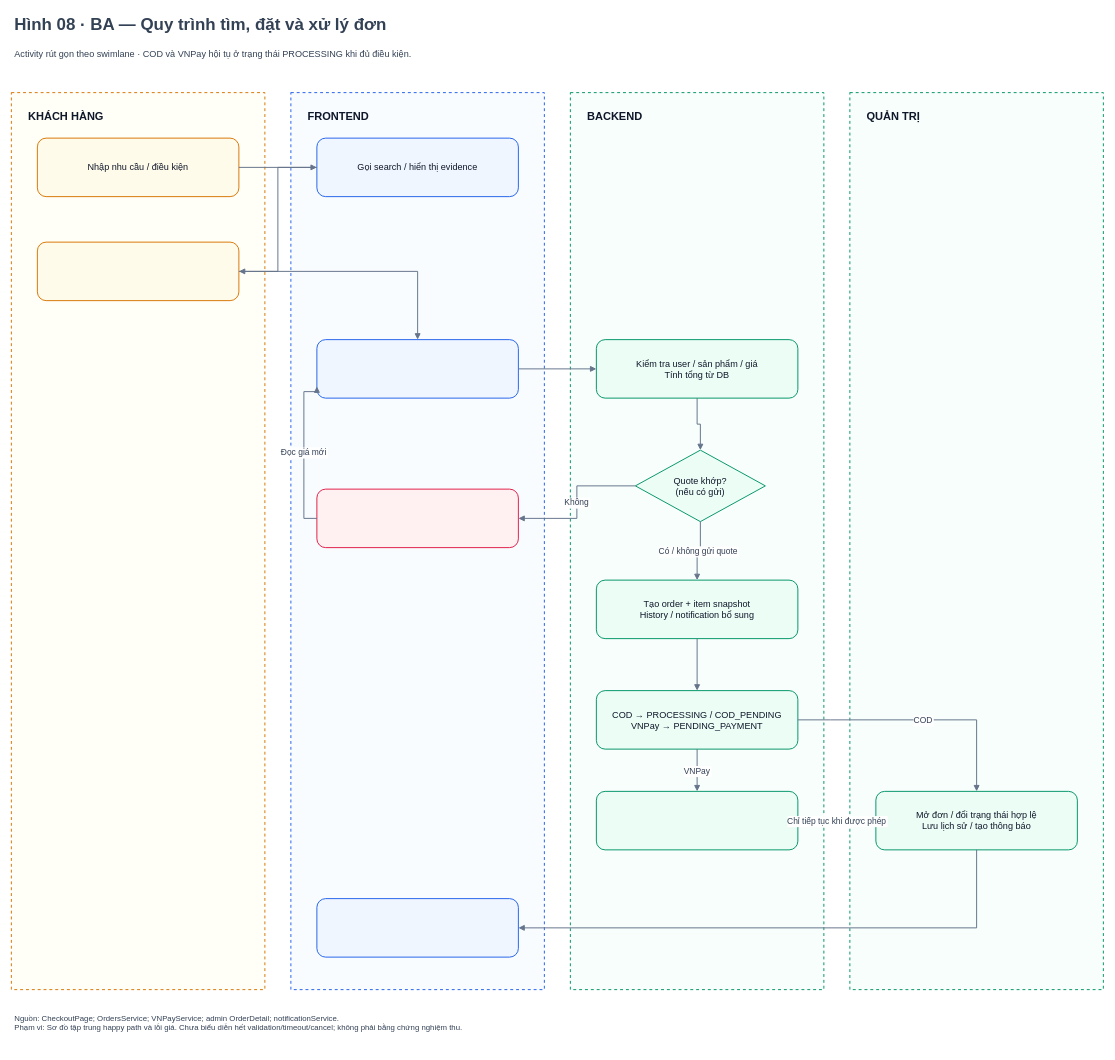
Some shapes in this 1115 by 1060 pixel diagram are drawn without their labels. Each missing label, with the centre of its shape:
Giá đổi: xác nhận lại Không tạo order tại bước 409: [417,518]
Tải lại đơn / thông báo Polling badge mặc định 30 giây: [417,927]
VNPay verify / IPN OK → PROCESSING / PAID Fail → PAYMENT_FAILED / FAILED: [697,820]
Xem / so sánh / thêm giỏ: [138,271]
Đăng nhập / nhập checkout Làm mới giá / gửi quote: [417,368]
